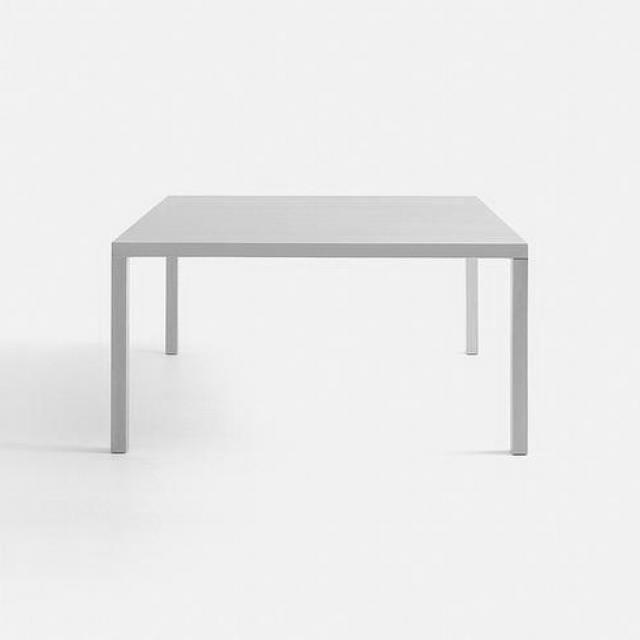table: (110, 194, 530, 456)
